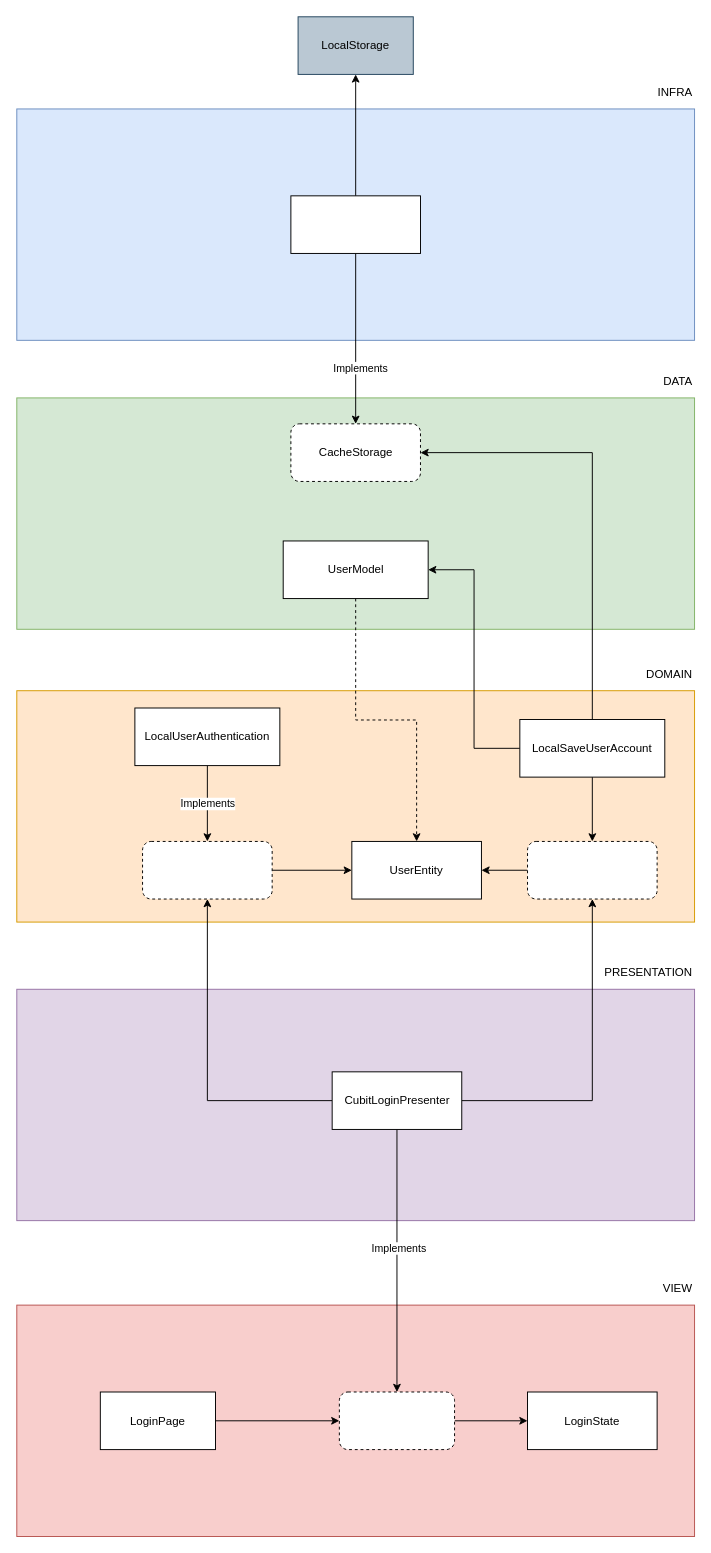
This 711x1553 diagram has some shape labels left out. Here are the shapes that lost their labels. From the top down, the box of each, then its label:
(290, 195, 420, 253): LocalStorageAdapter
(142, 840, 272, 899): UserAuthentication
(527, 840, 657, 899): SaveUserAccount
(338, 1391, 455, 1450): LoginPresenter
